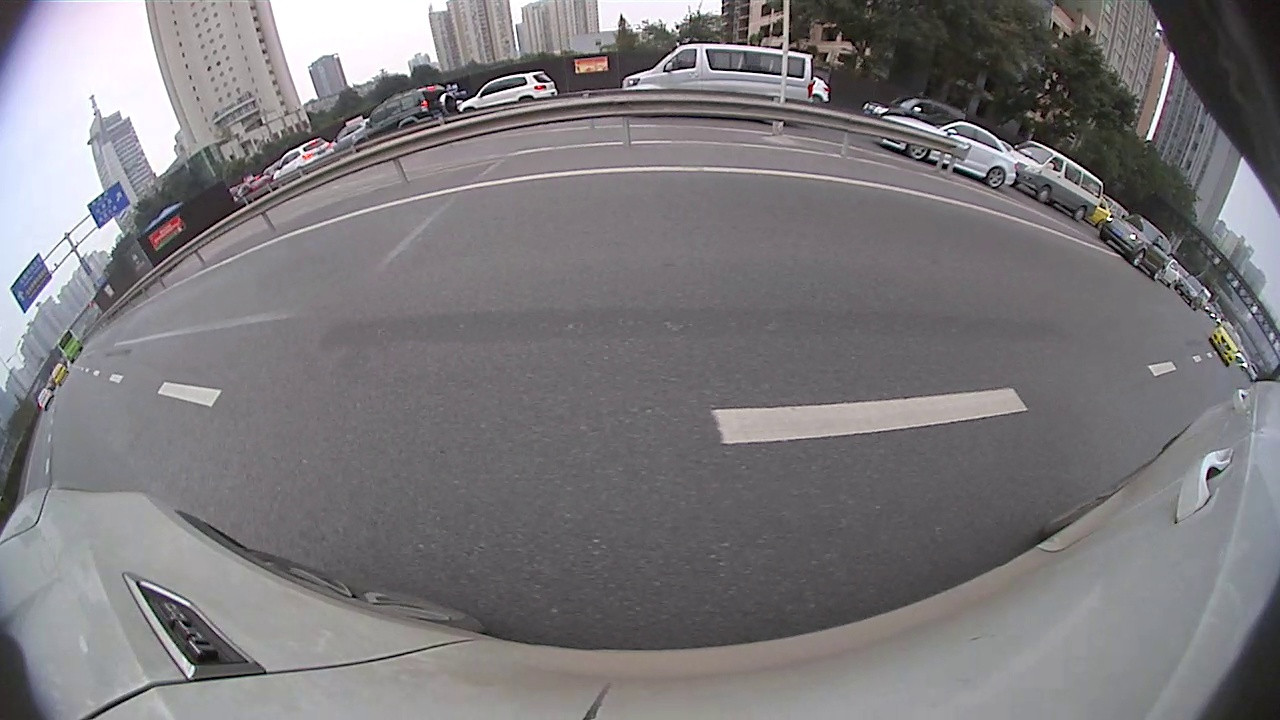car: (621, 45, 815, 106), (872, 115, 1017, 189), (1007, 142, 1104, 222), (357, 86, 463, 148), (1097, 215, 1170, 281), (457, 70, 559, 107), (275, 137, 337, 178), (1209, 318, 1243, 369)
front: (908, 138, 927, 159), (1132, 249, 1145, 266), (1037, 188, 1049, 203)
rear: (985, 168, 1005, 186), (1073, 207, 1086, 222), (1153, 268, 1163, 279)
